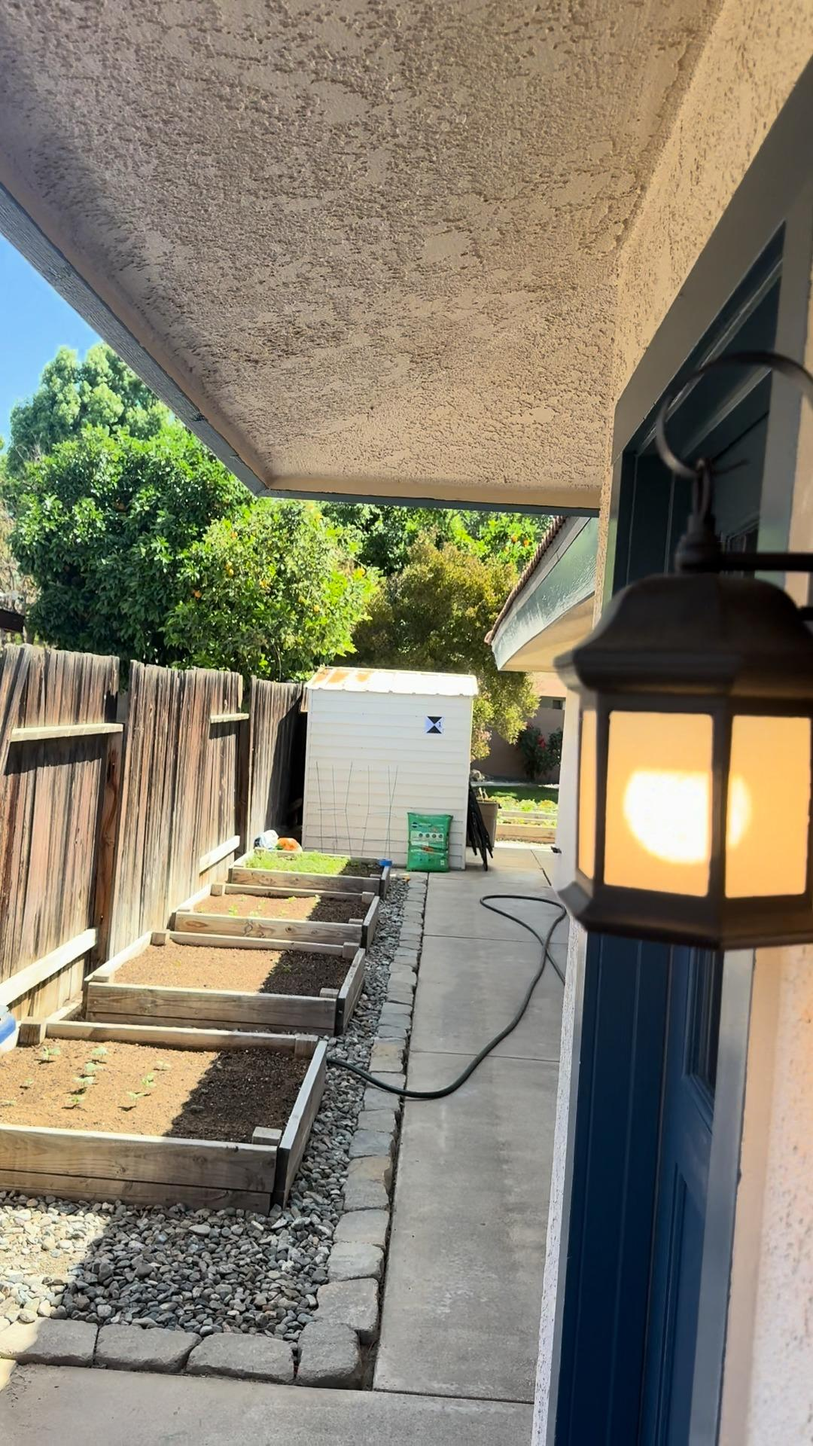target1: (425, 712, 446, 736)
